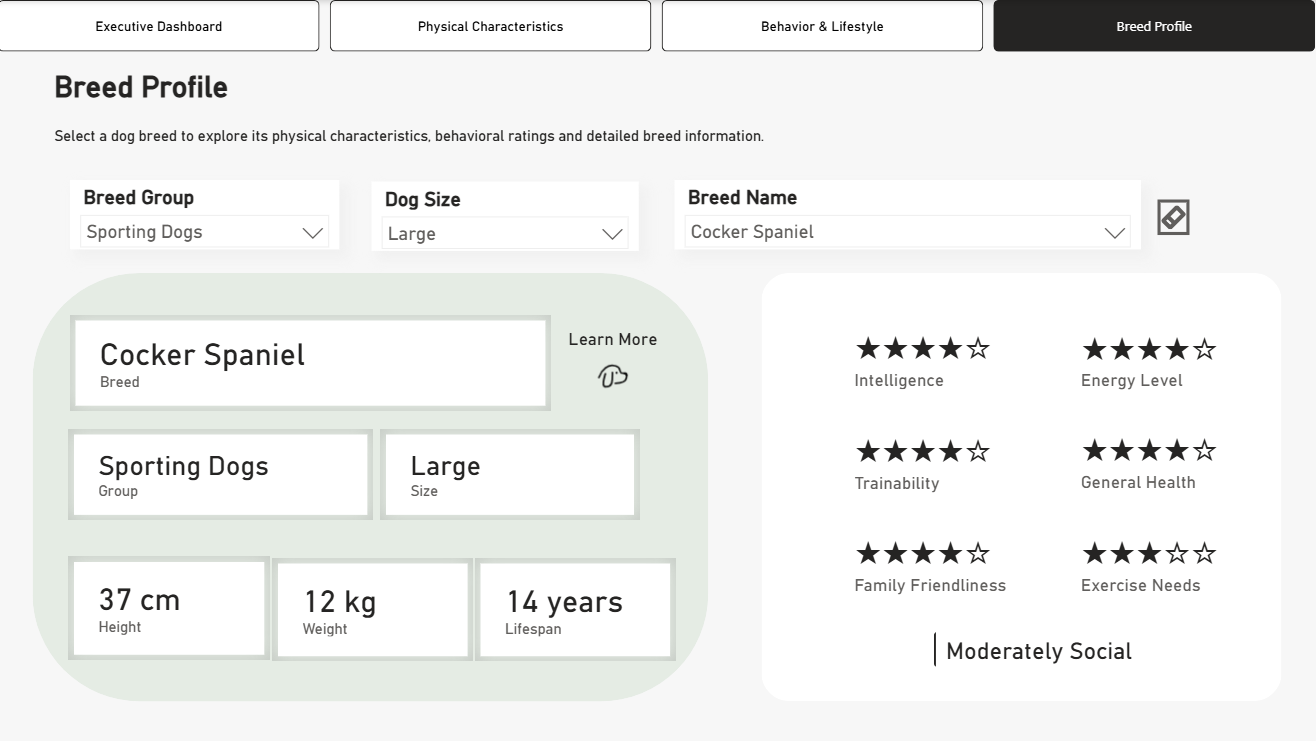

Layout of this report page (visuals, bound fields, positions):
{"tool":"powerbi","page":{"name":"Breed Profile","canvas":[1280,720],"ordinal":3},"visuals":[{"type":"shape","box":[32.9,264.3,655.7,415.7],"z":0},{"type":"shape","box":[741.5,264.6,504.6,415.4],"z":1000},{"type":"cardVisual","fields":{"Data":["Metriky.Intelligence Rating"]},"box":[801.5,306,210.5,90.7],"z":2000},{"type":"cardVisual","fields":{"Data":["Metriky.Trainability Rating"]},"box":[801.5,404.8,208.9,92.3],"z":3000},{"type":"cardVisual","fields":{"Data":["Metriky.Energy Rating"]},"box":[1022,306,208,91],"z":4000},{"type":"cardVisual","fields":{"Data":["Metriky.Family Friendliness Rating"]},"box":[801.5,505.2,208.9,90.7],"z":5000},{"type":"cardVisual","fields":{"Data":["Metriky.Selected Breed"]},"box":[69.2,306,466.8,93.4],"z":6000},{"type":"cardVisual","fields":{"Data":["Metriky.Selected Group"]},"box":[68.3,416.7,295,88.3],"z":7000},{"type":"cardVisual","fields":{"Data":["Metriky.Selected Size"]},"box":[371.7,416.7,251.7,88.3],"z":8000},{"type":"cardVisual","fields":{"Data":["Metriky.Selected Height"]},"box":[68.3,540,195,100],"z":9000},{"type":"cardVisual","fields":{"Data":["Metriky.Selected Weight"]},"box":[265.9,540.7,194.4,100],"z":10000},{"type":"cardVisual","fields":{"Data":["Metriky.Selected Lifespan"]},"box":[463,540.7,194.4,100],"z":11000},{"type":"slicer","fields":{"Values":["Breed Groups.Dog Breed Group"]},"box":[69.2,174.6,261.1,67.4],"z":12000},{"type":"slicer","fields":{"Values":["Dog Sizes.Dog Size"]},"box":[363.1,176.4,259.3,67.4],"z":13000},{"type":"slicer","fields":{"Values":["Dogs.Breed Name"]},"box":[657,174.6,453,67.4],"z":14000},{"type":"cardVisual","fields":{"Data":["Metriky.General Health Rating"]},"box":[1022.1,405.3,208.4,90.5],"z":15000},{"type":"cardVisual","fields":{"Data":["Metriky.Exercise Needs Rating"]},"box":[1022,505,208,90],"z":16000},{"type":"actionButton","title":"Learn More","box":[546.4,318.1,102,67.4],"z":17000},{"type":"pageNavigator","box":[0,0,1280.8,50.2],"z":18000},{"type":"textbox","box":[50.2,63.1,555.4,79.3],"z":19000},{"type":"textbox","box":[50.2,118.2,1135.1,47],"z":20000},{"type":"actionButton","box":[1125.9,193.1,31,34.5],"z":21000},{"type":"cardVisual","title":"Social Friendliness","fields":{"Data":["Measure Table.Selected Social Friendliness"]},"box":[890.6,595.9,242.9,69.6],"z":22000}]}

Visuals, with their boxes in screenshot pixels (x1, y1, x2, y2), scaled from the page's 1280x720 canvas onto the 1316x741 screenshot:
shape: region(34, 272, 708, 700)
shape: region(762, 272, 1281, 700)
cardVisual - Metriky.Intelligence Rating: region(824, 315, 1040, 408)
cardVisual - Metriky.Trainability Rating: region(824, 417, 1039, 512)
cardVisual - Metriky.Energy Rating: region(1051, 315, 1265, 409)
cardVisual - Metriky.Family Friendliness Rating: region(824, 520, 1039, 613)
cardVisual - Metriky.Selected Breed: region(71, 315, 551, 411)
cardVisual - Metriky.Selected Group: region(70, 429, 374, 520)
cardVisual - Metriky.Selected Size: region(382, 429, 641, 520)
cardVisual - Metriky.Selected Height: region(70, 556, 271, 659)
cardVisual - Metriky.Selected Weight: region(273, 556, 473, 659)
cardVisual - Metriky.Selected Lifespan: region(476, 556, 676, 659)
slicer - Breed Groups.Dog Breed Group: region(71, 180, 340, 249)
slicer - Dog Sizes.Dog Size: region(373, 182, 640, 251)
slicer - Dogs.Breed Name: region(675, 180, 1141, 249)
cardVisual - Metriky.General Health Rating: region(1051, 417, 1265, 510)
cardVisual - Metriky.Exercise Needs Rating: region(1051, 520, 1265, 612)
"Learn More" actionButton: region(562, 327, 667, 397)
pageNavigator: region(0, 0, 1315, 52)
textbox: region(52, 65, 623, 147)
textbox: region(52, 122, 1219, 170)
actionButton: region(1158, 199, 1189, 234)
"Social Friendliness" cardVisual: region(916, 613, 1165, 685)
